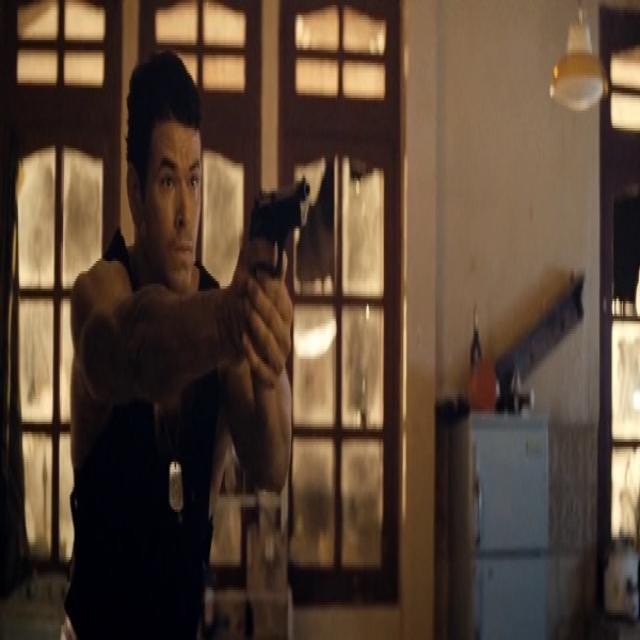weapons: (235, 165, 316, 354)
